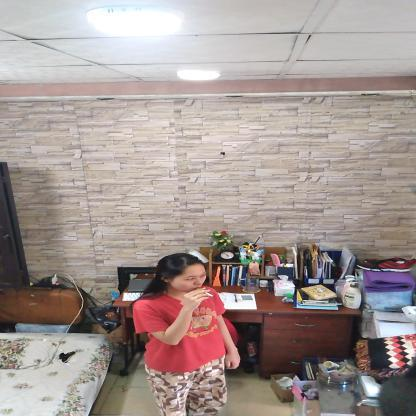cigarette: (204, 292, 214, 298)
person: (128, 252, 244, 415)
